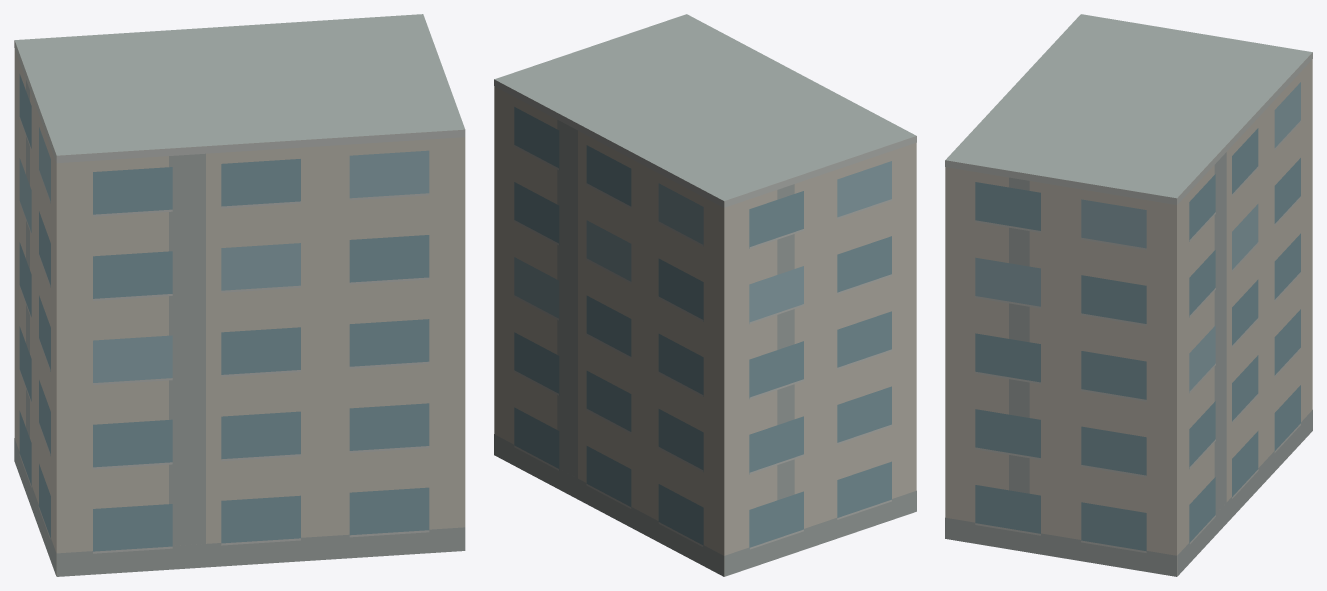
The model's file is survey-upis-32880897.glb.
The picture shows the model from 3 angles, left to right: view 1: azimuth 30°, elevation 25°; view 2: azimuth 150°, elevation 25°; view 3: azimuth 270°, elevation 25°; orthographic projection. The views are drawn at different scales.
Parts seen in each view (by area): view 1: survey-upis-32880897.tmp; view 2: survey-upis-32880897.tmp; view 3: survey-upis-32880897.tmp.
Boxes of the visible parts, x1,y1,x2,y2 form: survey-upis-32880897.tmp: [14, 14, 465, 576]; survey-upis-32880897.tmp: [494, 14, 916, 576]; survey-upis-32880897.tmp: [945, 14, 1312, 576].
Bounding box in the file's own units: 14.16 × 13.55 × 11.93.
